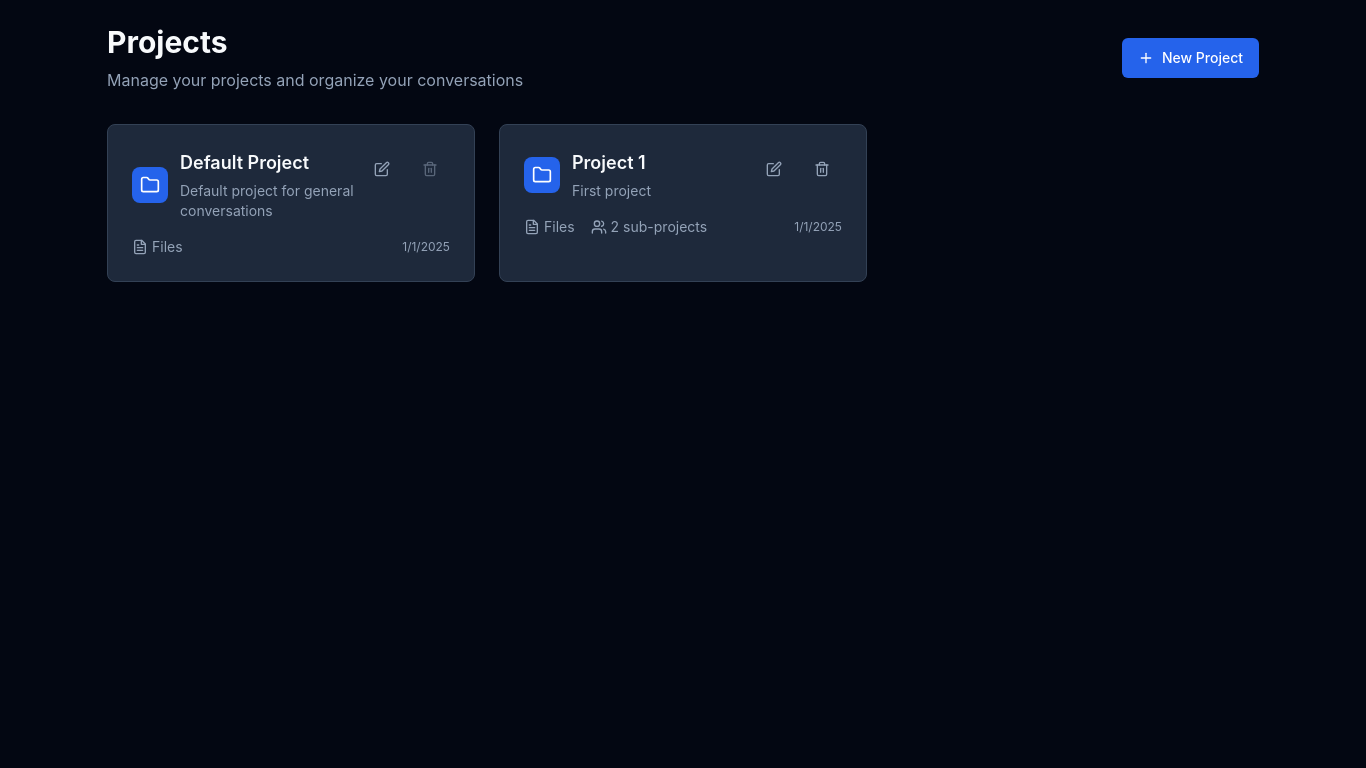
ProjectsPage Integration Tests › opens edit modal when edit button is clicked
The image size is (1366, 768).
Click the button named "edit".
click(382, 169)  # box x1=362 y1=149 x2=402 y2=189
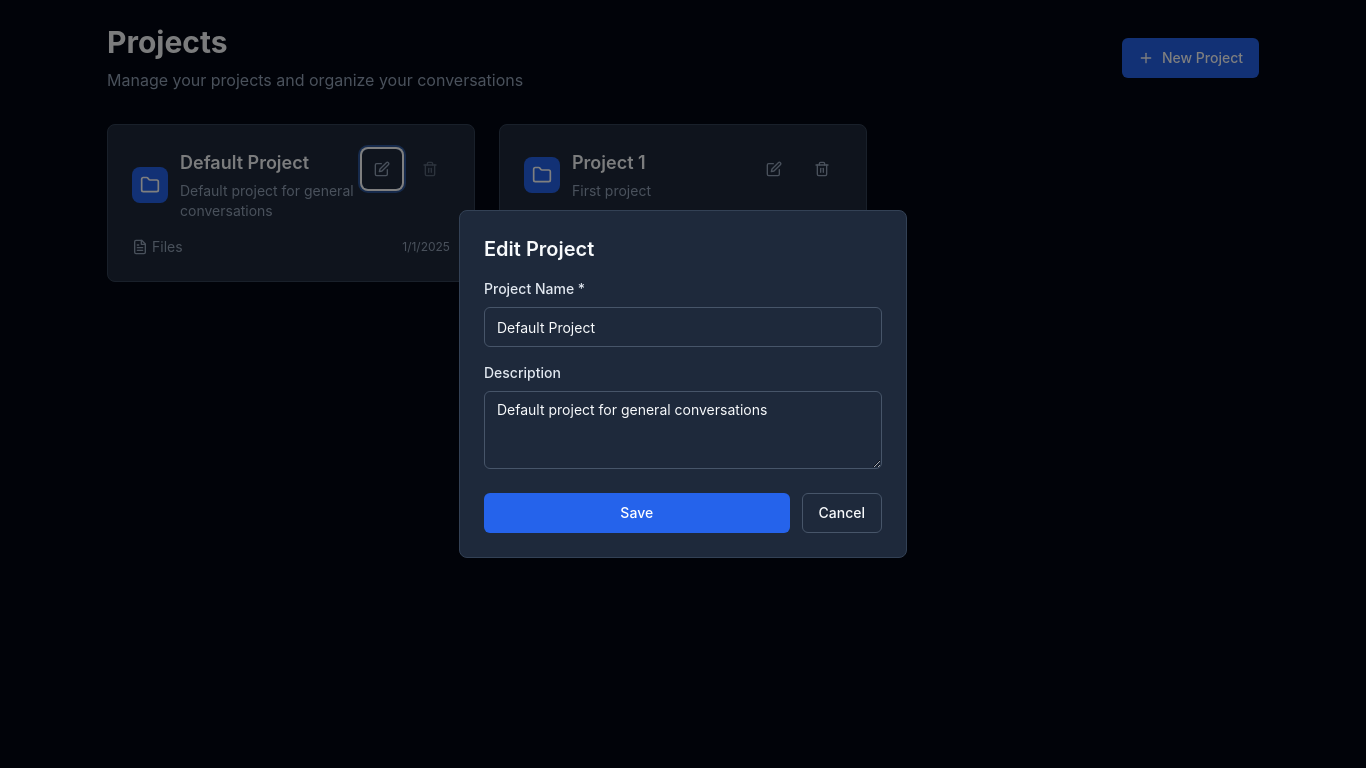
Result: the heading "Edit Project" is shown at x1=484 y1=237 x2=594 y2=261
Result: the field showing "Default Project" is shown at x1=484 y1=307 x2=882 y2=347
